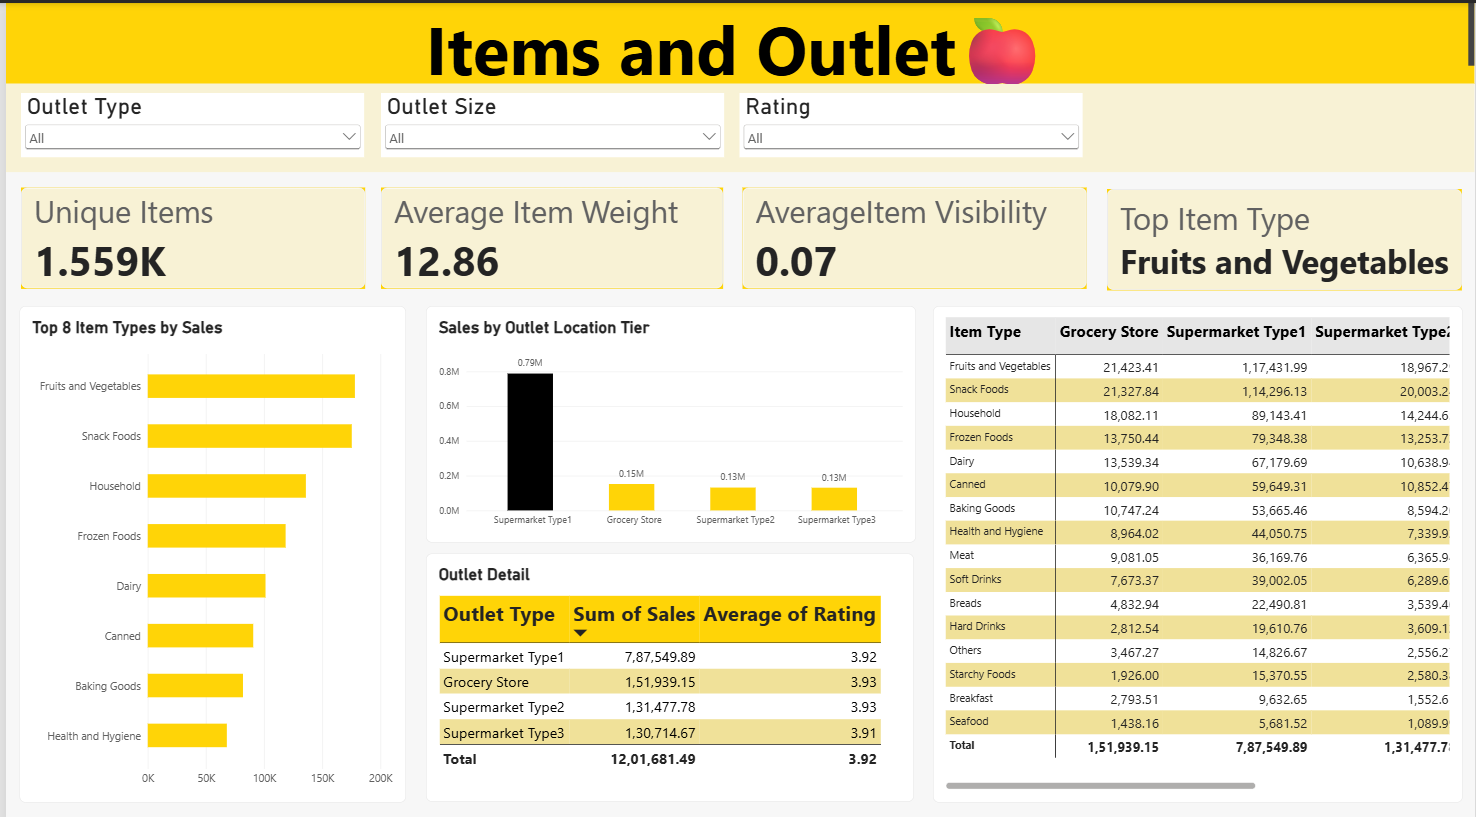

Layout of this report page (visuals, bound fields, positions):
{"tool":"powerbi","page":{"name":"Items & Outlet","canvas":[1920,1080],"ordinal":1},"visuals":[{"type":"textbox","box":[0,0,1920,105.6],"z":0},{"type":"shape","box":[0,105.6,1920,115.2],"z":1},{"type":"slicer","fields":{"Values":["Blinkit Grocery Data.Outlet Type"]},"box":[19.2,117.6,448.8,84],"z":2},{"type":"slicer","fields":{"Values":["Blinkit Grocery Data.Outlet Size"]},"box":[489.6,117.6,448.8,84],"z":3},{"type":"slicer","fields":{"Values":["Blinkit Grocery Data.Rating"]},"box":[960,117.6,448.8,84],"z":4},{"type":"cardVisual","fields":{"Data":["Count(Blinkit Grocery Data.Item Identifier)"]},"box":[18.9,241.6,450,132.6],"z":5},{"type":"cardVisual","fields":{"Data":["Avg(Blinkit Grocery Data.Item Weight)"]},"box":[490.3,241.6,447.6,132.6],"z":6},{"type":"cardVisual","fields":{"Data":["Avg(Blinkit Grocery Data.Item Visibility)"]},"box":[964,241.6,450,132.6],"z":7},{"type":"cardVisual","fields":{"Data":["Min(Blinkit Grocery Data.Item Type)"]},"box":[1440,242.3,464,132.6],"z":8},{"type":"barChart","title":"Top 8 Item Types by Sales","fields":{"Category":["Blinkit Grocery Data.Item Type"],"Y":["Sum(Blinkit Grocery Data.Sales)"]},"box":[18.3,395.4,505.1,649.1],"z":9},{"type":"columnChart","title":"Sales by Outlet Location Tier","fields":{"Category":["Blinkit Grocery Data.Outlet Type"],"Y":["Sum(Blinkit Grocery Data.Sales)"]},"box":[548.6,395.4,640.8,309.6],"z":10},{"type":"tableEx","title":"Outlet Detail","fields":{"Values":["Blinkit Grocery Data.Outlet Type","Sum(Blinkit Grocery Data.Sales)","Avg(Blinkit Grocery Data.Rating)"]},"box":[549.7,720,638.2,324.8],"z":11},{"type":"pivotTable","fields":{"Columns":["Blinkit Grocery Data.Outlet Type"],"Rows":["Blinkit Grocery Data.Item Type"],"Values":["Sum(Blinkit Grocery Data.Sales)"]},"box":[1211.4,395.4,692.6,649.1],"z":13}]}

Visuals, with their boxes in screenshot pixels (x1, y1, x2, y2), scaled from the page's 1920x1080 canvas onto the 1476x817 screenshot:
textbox: 0 0 1475 80
shape: 0 80 1475 167
slicer - Blinkit Grocery Data.Outlet Type: 15 89 360 153
slicer - Blinkit Grocery Data.Outlet Size: 376 89 721 153
slicer - Blinkit Grocery Data.Rating: 738 89 1083 153
cardVisual - Count(Blinkit Grocery Data.Item Identifier): 15 183 360 283
cardVisual - Avg(Blinkit Grocery Data.Item Weight): 377 183 721 283
cardVisual - Avg(Blinkit Grocery Data.Item Visibility): 741 183 1087 283
cardVisual - Min(Blinkit Grocery Data.Item Type): 1107 183 1464 284
"Top 8 Item Types by Sales" barChart: 14 299 402 790
"Sales by Outlet Location Tier" columnChart: 422 299 914 533
"Outlet Detail" tableEx: 423 545 913 790
pivotTable - Blinkit Grocery Data.Outlet Type x Blinkit Grocery Data.Item Type: 931 299 1464 790
